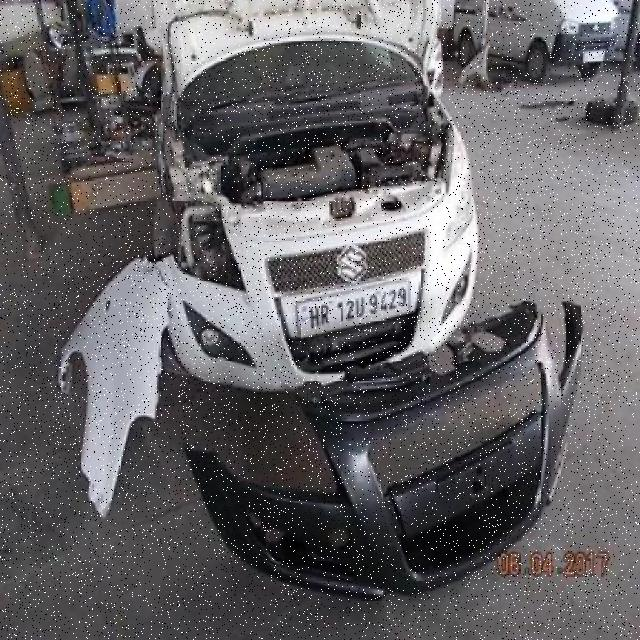damage: (155, 131, 248, 300)
